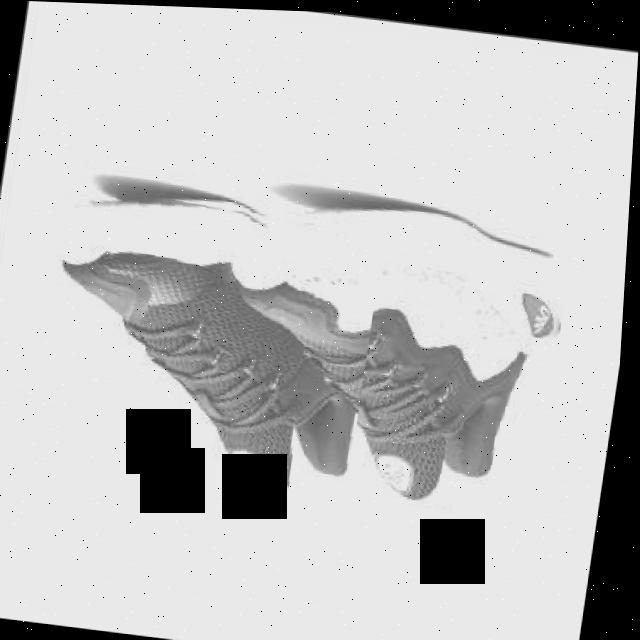shoe: (201, 180, 584, 511), (24, 179, 390, 495)
